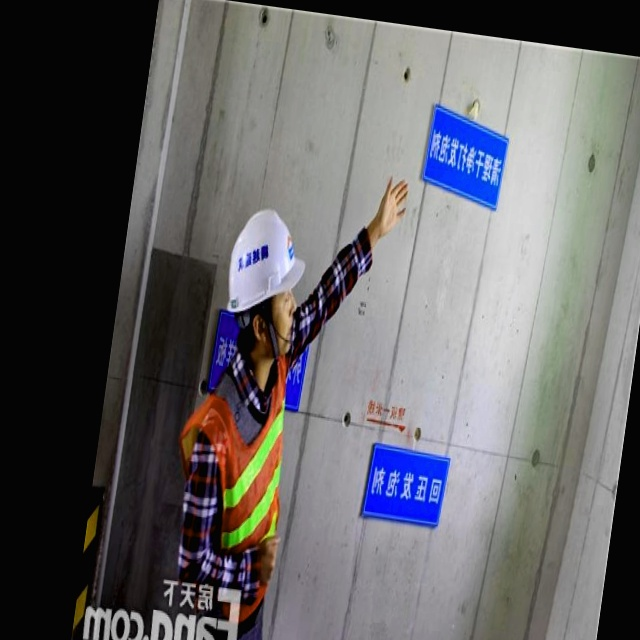Con_Casco: (217, 207, 315, 362)
Con_Chaleco: (167, 349, 301, 590)
